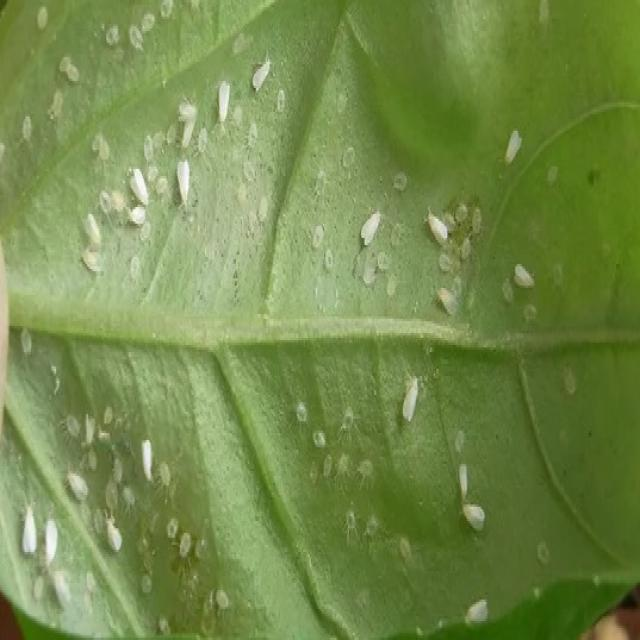Whitefly: (15, 500, 68, 616), (450, 450, 495, 553), (68, 188, 108, 298), (169, 84, 200, 223), (499, 102, 532, 196), (116, 163, 152, 247), (508, 236, 544, 317), (396, 354, 424, 448), (416, 196, 454, 260), (459, 576, 501, 632), (432, 272, 466, 330), (209, 62, 237, 130), (65, 465, 96, 520), (356, 206, 388, 256), (248, 46, 276, 102), (102, 499, 125, 564), (134, 430, 160, 487)
